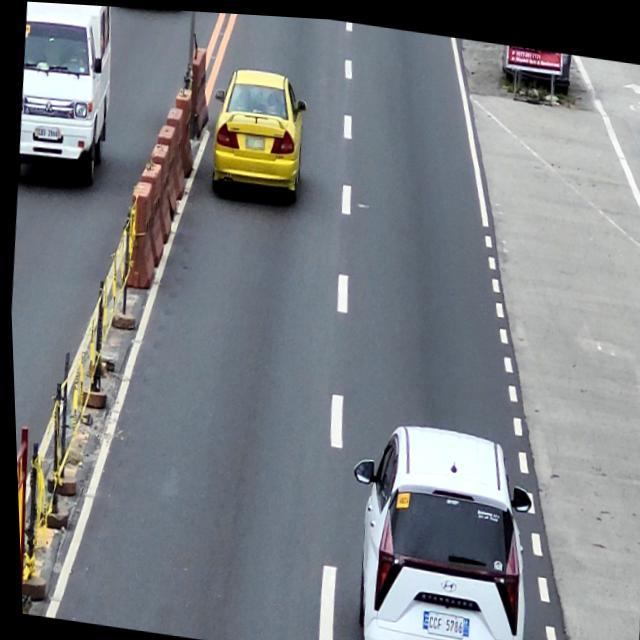Car: (331, 410, 539, 640), (11, 1, 121, 188), (204, 60, 311, 205)
License-Plate: (422, 605, 460, 634), (242, 129, 265, 147), (35, 123, 58, 140)
